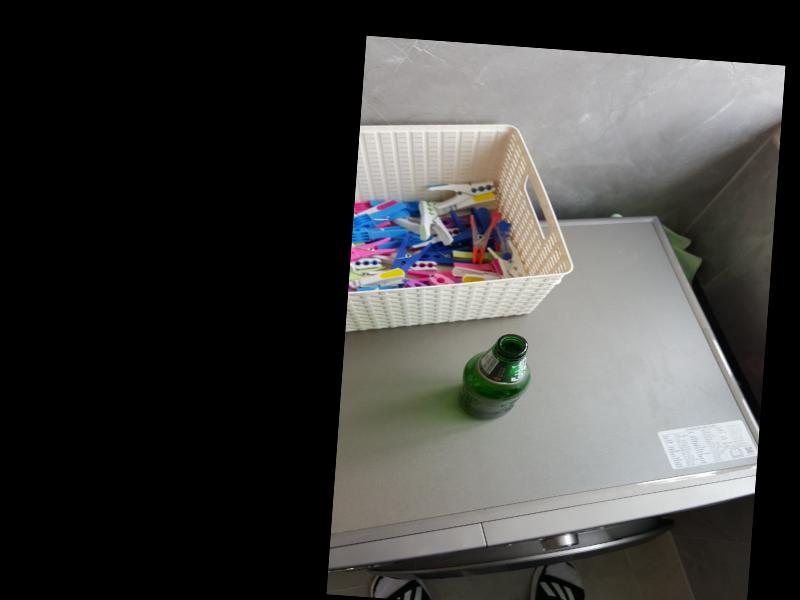Beer: (458, 331, 529, 424)
